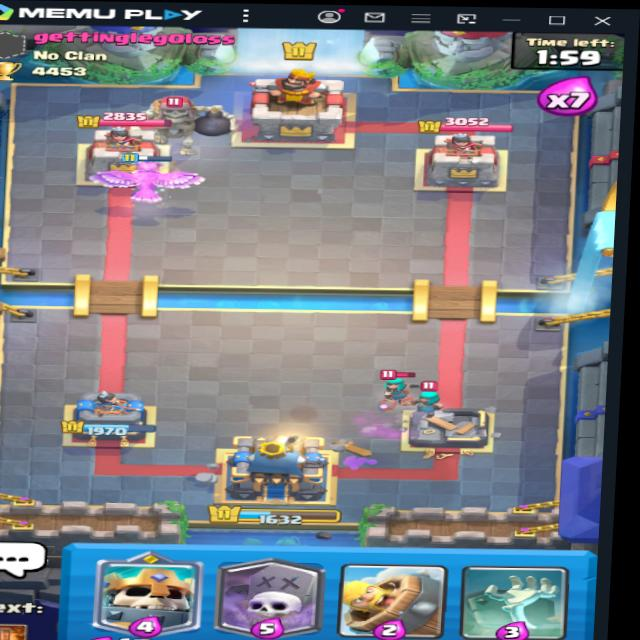Giantskeleton: (125, 89, 240, 158)
Rascalgirl: (377, 371, 424, 404), (410, 379, 452, 413)
